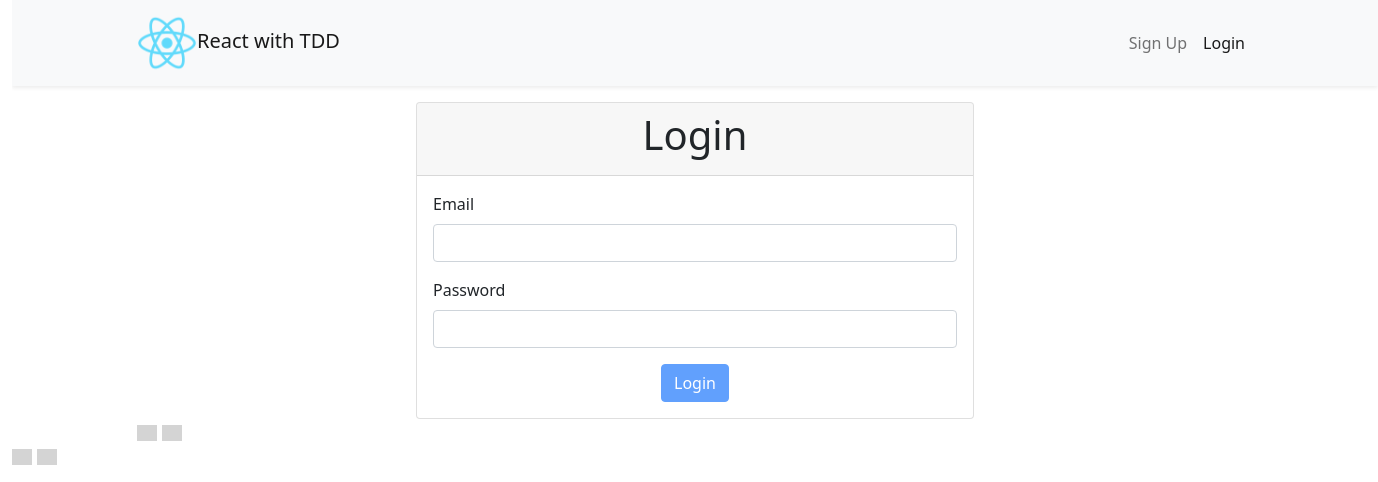
Test case: Routing › displays home page when clicking brand logo
The width and height of the screenshot is (1378, 482).
Click the picture with alt text "React with TDD": coordinates (167, 43) 137,13 -> 197,73
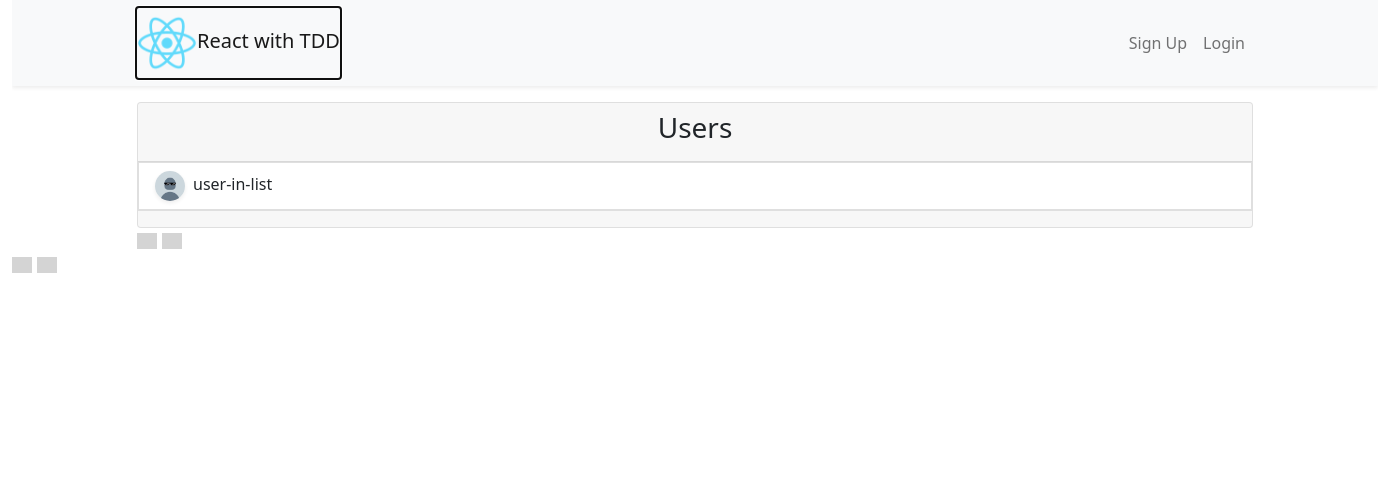
Result: the element with test id "home-page" is shown at 137,102 -> 1253,228
